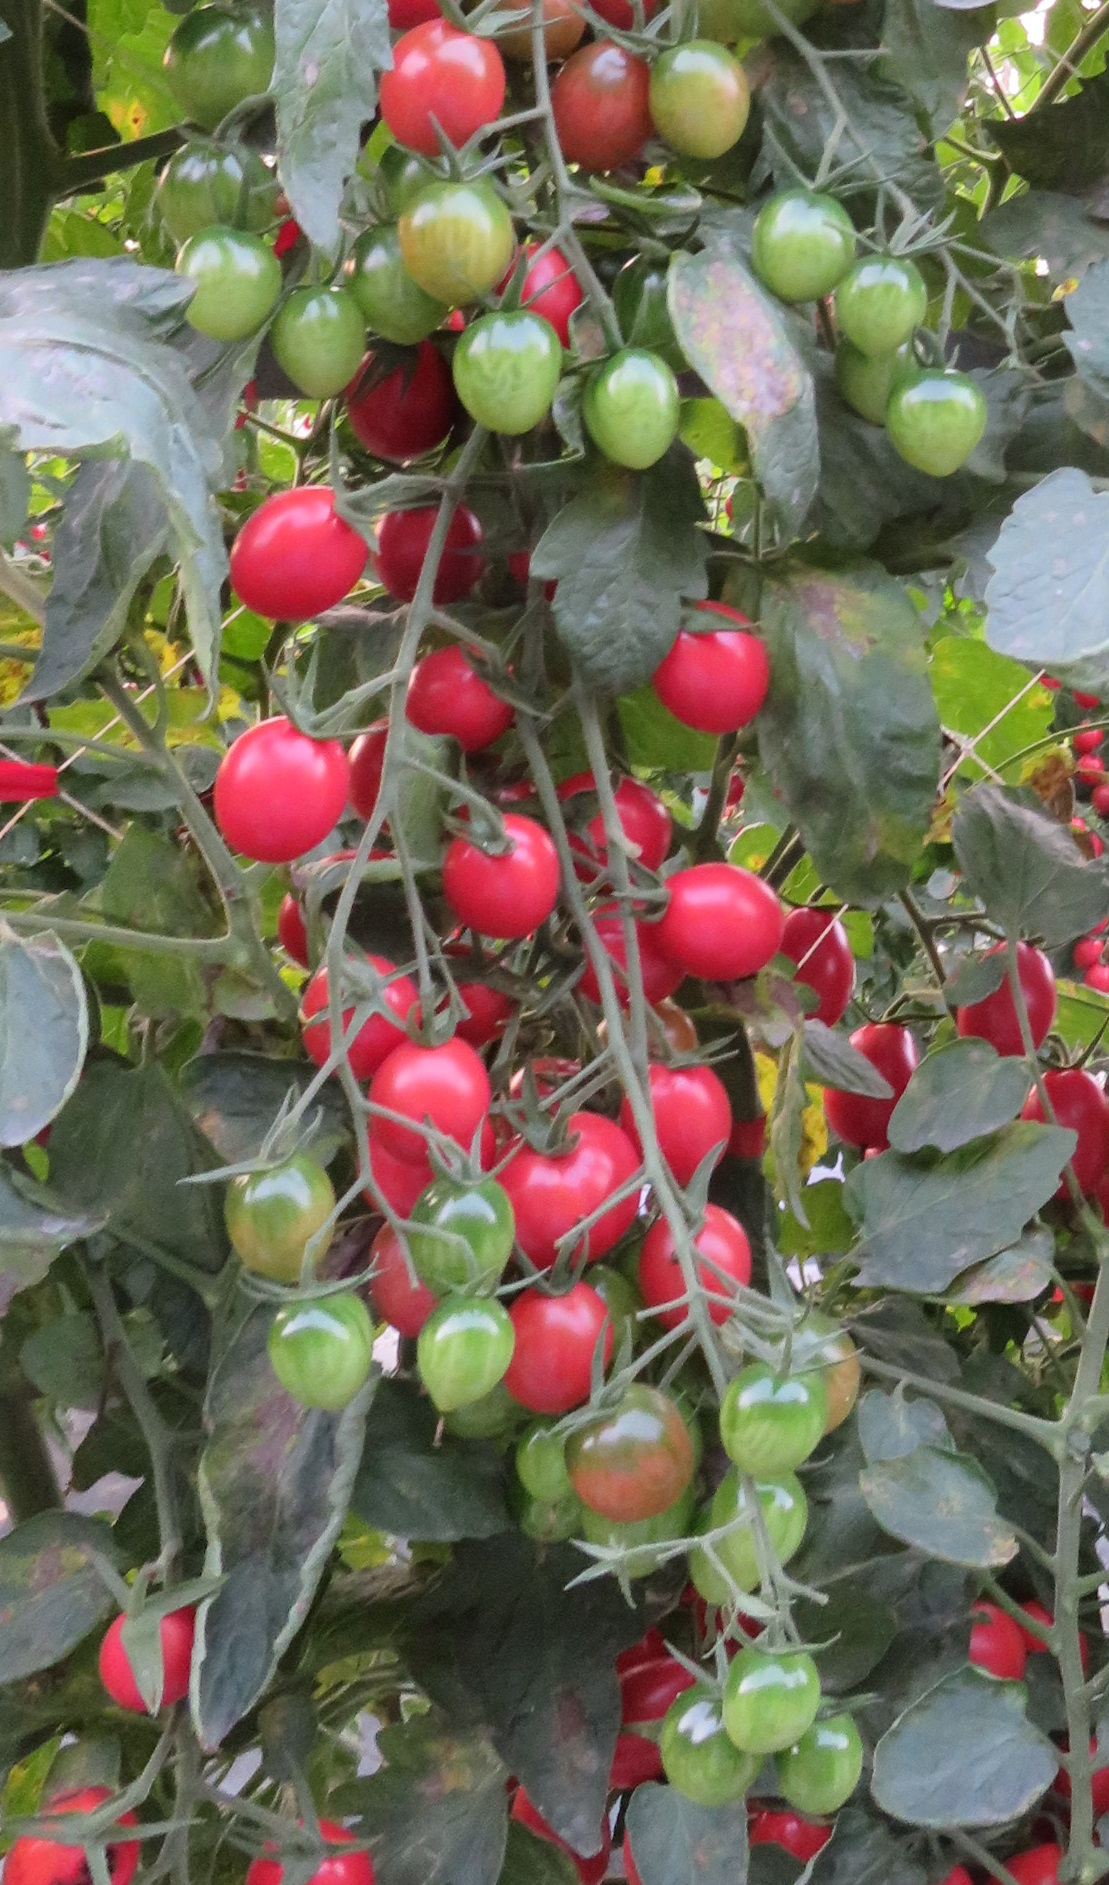green: (548, 1401, 708, 1514), (263, 1283, 387, 1418), (218, 1142, 334, 1284), (154, 7, 283, 135), (436, 312, 565, 436), (389, 176, 516, 301), (646, 1675, 759, 1811), (877, 354, 995, 483), (648, 24, 750, 173), (735, 185, 844, 315), (712, 1354, 824, 1478), (415, 1171, 524, 1295), (589, 342, 690, 473), (416, 1299, 539, 1403), (727, 1634, 826, 1760), (151, 152, 290, 238), (705, 1473, 815, 1581), (826, 252, 947, 350), (778, 1703, 875, 1818), (273, 300, 375, 403), (350, 228, 436, 342), (172, 249, 275, 337)
orange: (554, 34, 640, 162)
red: (203, 718, 359, 871), (220, 480, 382, 626), (507, 1105, 634, 1263), (368, 18, 506, 162), (661, 601, 778, 744), (652, 865, 797, 979), (520, 1273, 632, 1414), (5, 1779, 153, 1885), (1018, 1060, 1109, 1226), (442, 822, 565, 944), (349, 339, 470, 459), (548, 770, 675, 884), (957, 936, 1068, 1067), (375, 1032, 487, 1156), (372, 491, 492, 606), (823, 1023, 924, 1156), (292, 964, 411, 1076), (574, 904, 694, 1015), (650, 1053, 749, 1181), (650, 1213, 754, 1331), (408, 642, 512, 756), (92, 1606, 199, 1713), (782, 904, 861, 1028)
